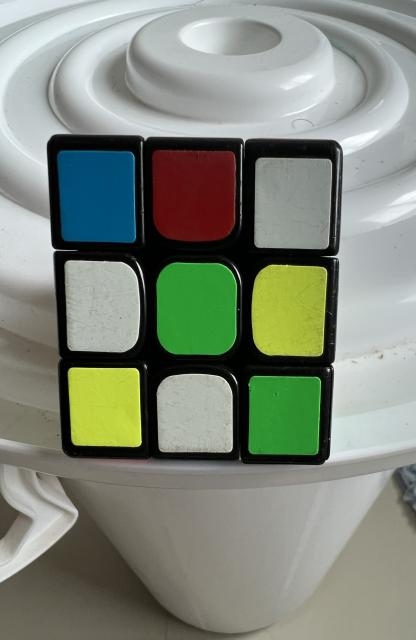Blue: (56, 150, 135, 242)
Green: (156, 262, 237, 355), (248, 377, 322, 456)
Red: (152, 150, 236, 242)
White: (255, 158, 333, 249), (64, 260, 141, 352), (157, 374, 233, 452)
Yellow: (251, 265, 327, 356), (67, 368, 142, 448)
